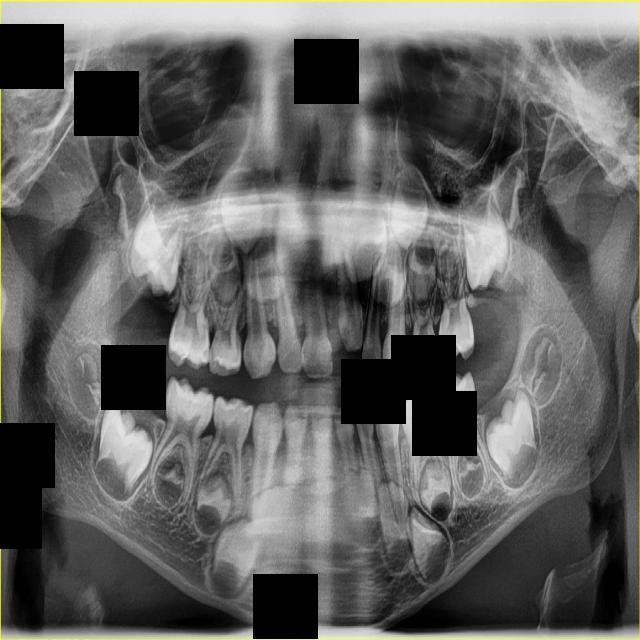Sterngold Implant: (341, 325, 350, 345), (201, 343, 210, 361), (209, 345, 216, 367), (431, 341, 437, 360), (439, 338, 445, 356), (432, 397, 438, 411), (429, 399, 432, 413)
